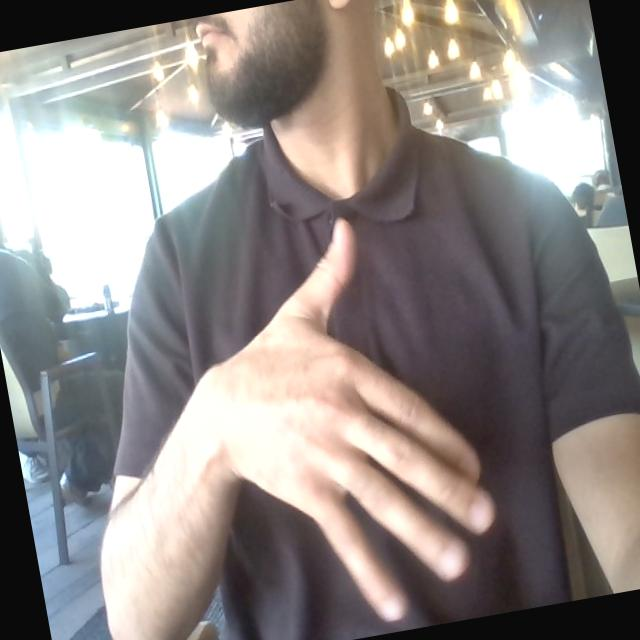Hand: (198, 221, 493, 619)
